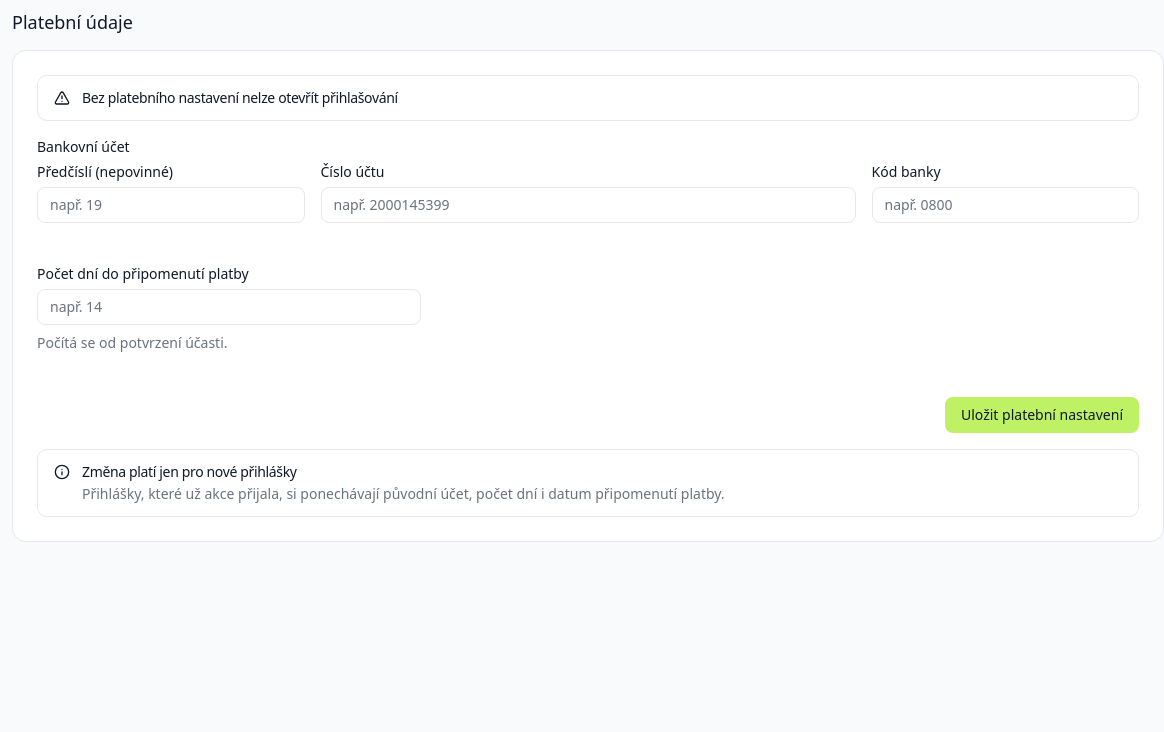
Scenario: PaymentSettingsSection › shows the missing-settings notice and then the saved values after a save
The width and height of the screenshot is (1164, 732).
Expected: the text "Bez platebního nastavení nelze otevřít přihlašování" is shown, [82,88,398,107]
In the field labelled "Předčíslí (nepovinné)": (171, 205) [37,187,304,223], type "19"
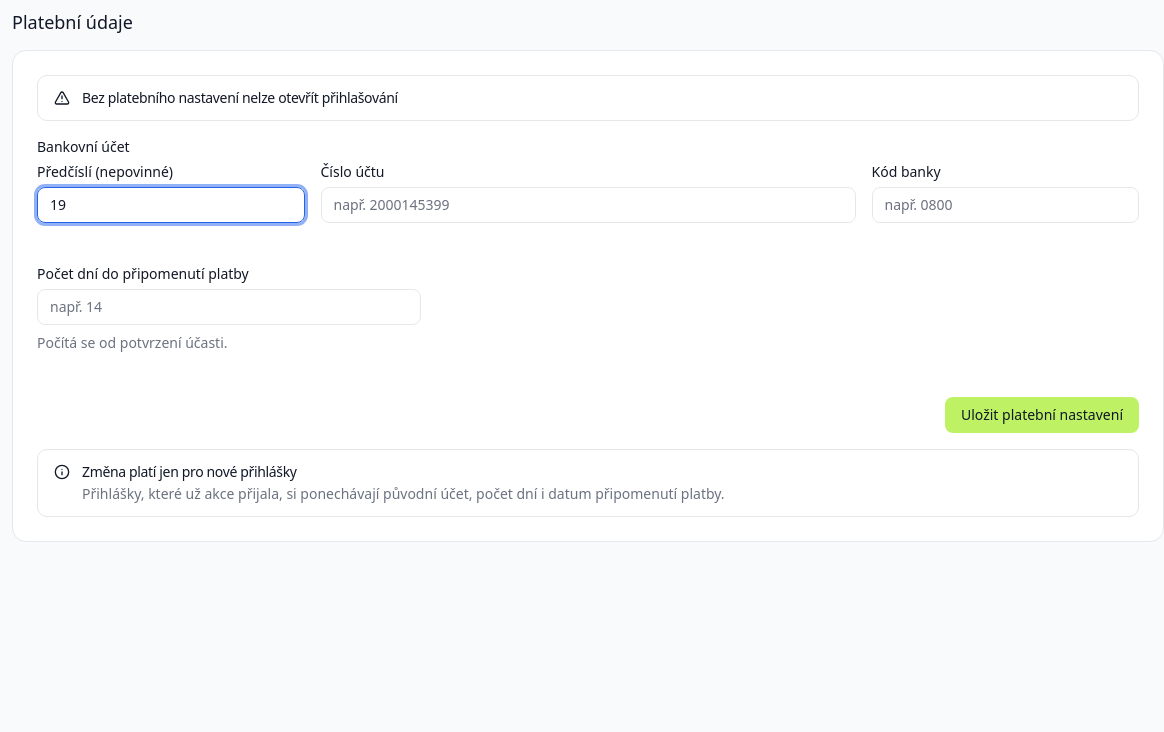
In the field labelled "Číslo účtu": (588, 205) [320,187,856,223], type "2000145399"
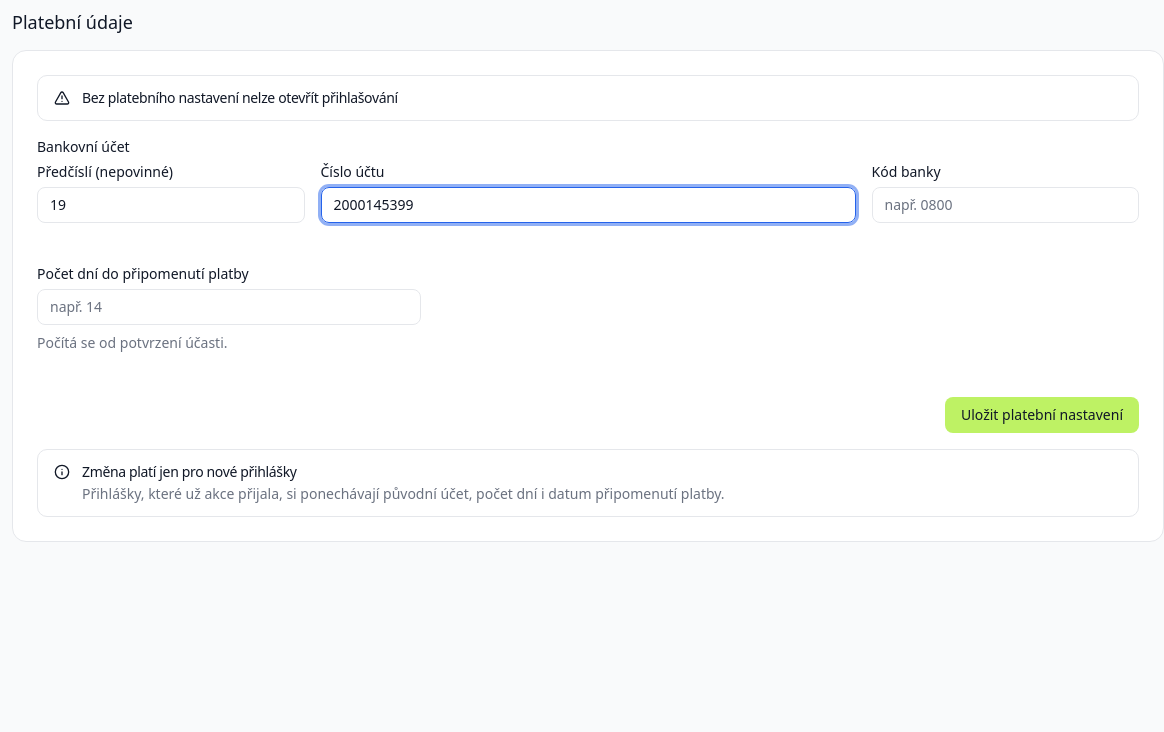
In the field labelled "Kód banky": (1005, 205) [872,187,1139,223], type "0800"
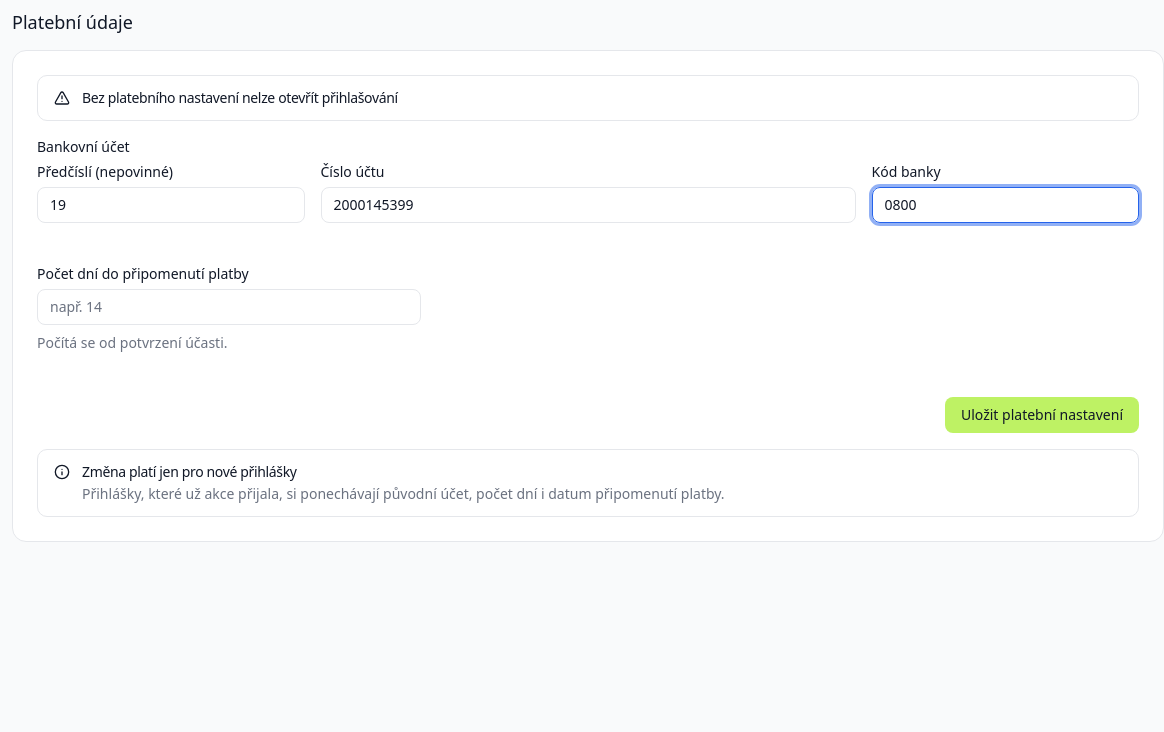
In the field labelled "Počet dní do připomenutí platby": (229, 307) [37,289,421,325], type "14"
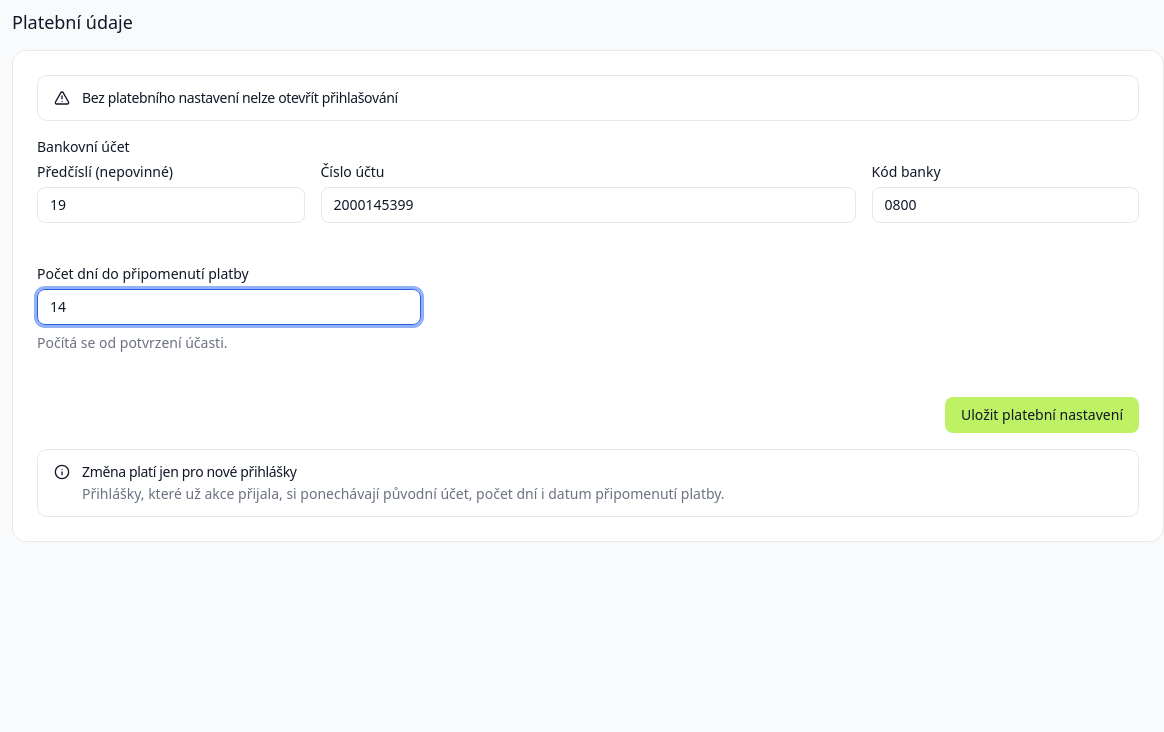
Click the button "Uložit platební nastavení": (1042, 415) [945,397,1139,433]
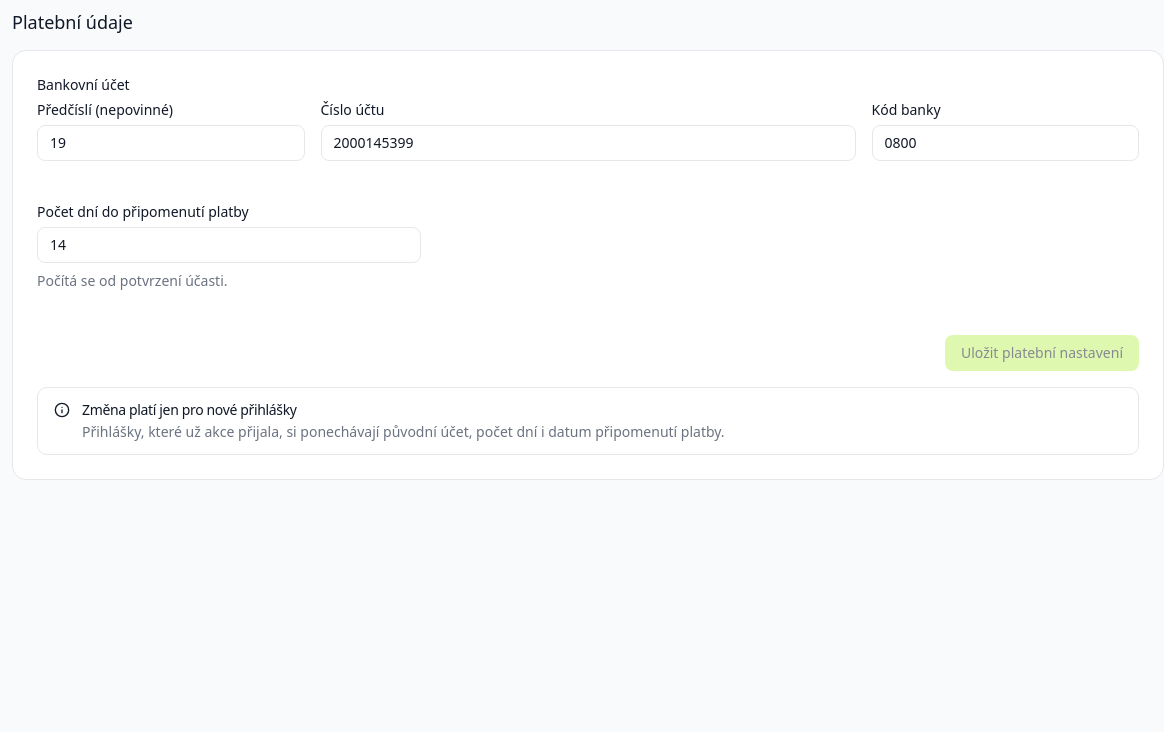
Now the text "Bez platebního nastavení nelze otevřít přihlašování" is gone
